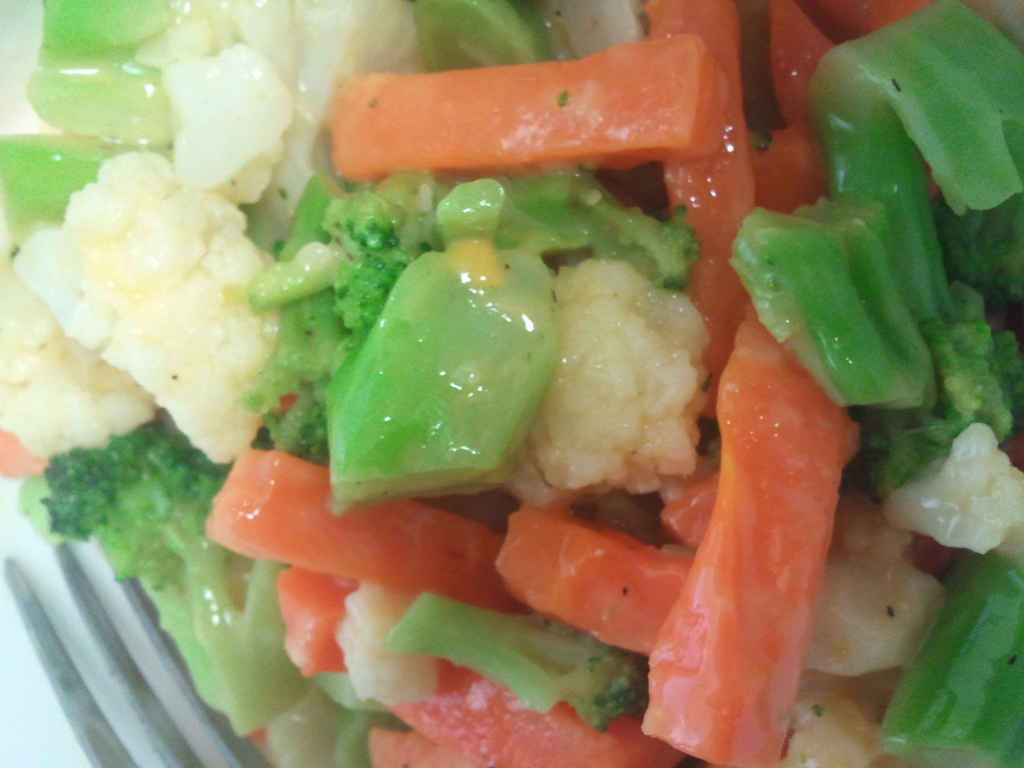Carrot: (643, 303, 857, 767), (278, 566, 688, 767), (308, 46, 798, 199), (204, 449, 506, 607), (500, 504, 700, 659)
